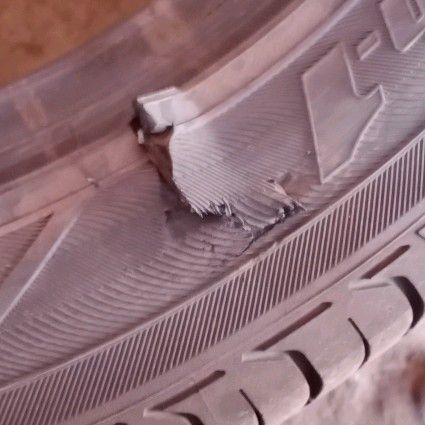cut: (123, 96, 306, 257)
